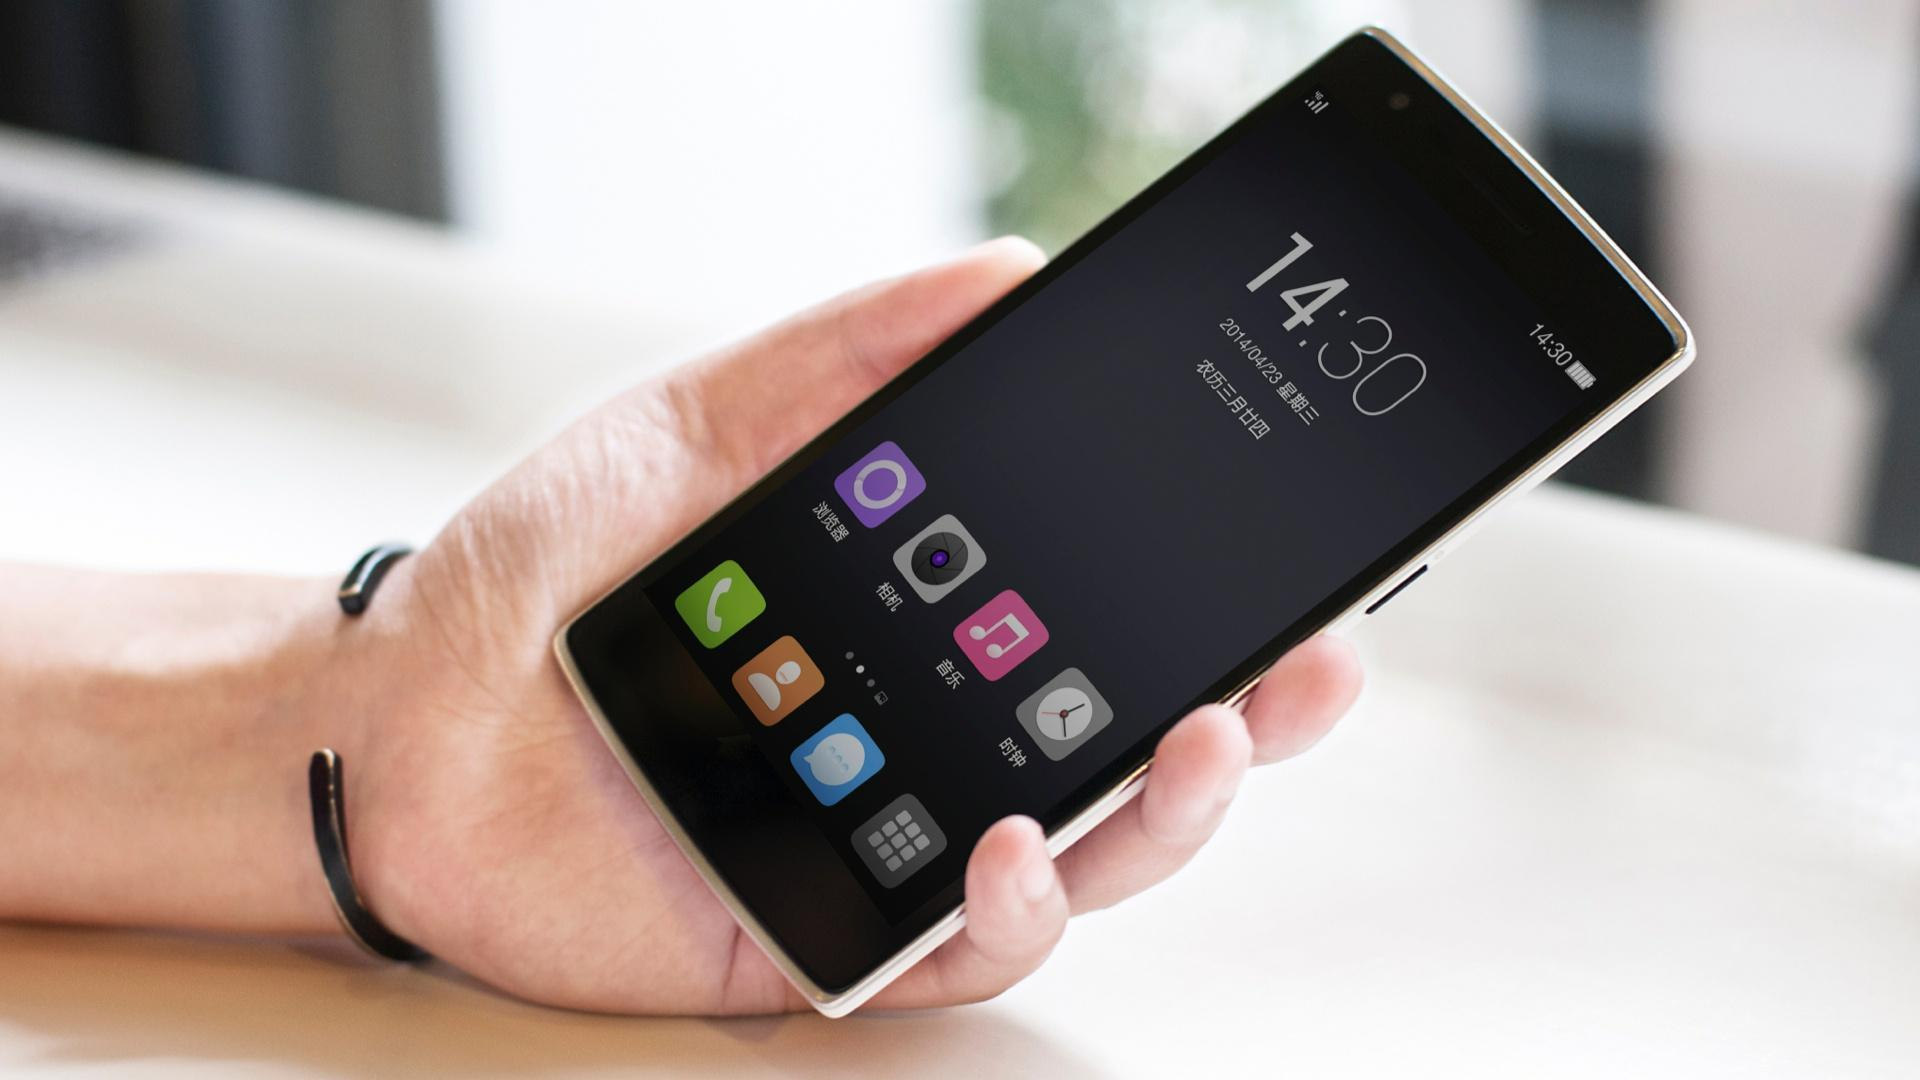phone: (632, 113, 1652, 971)
